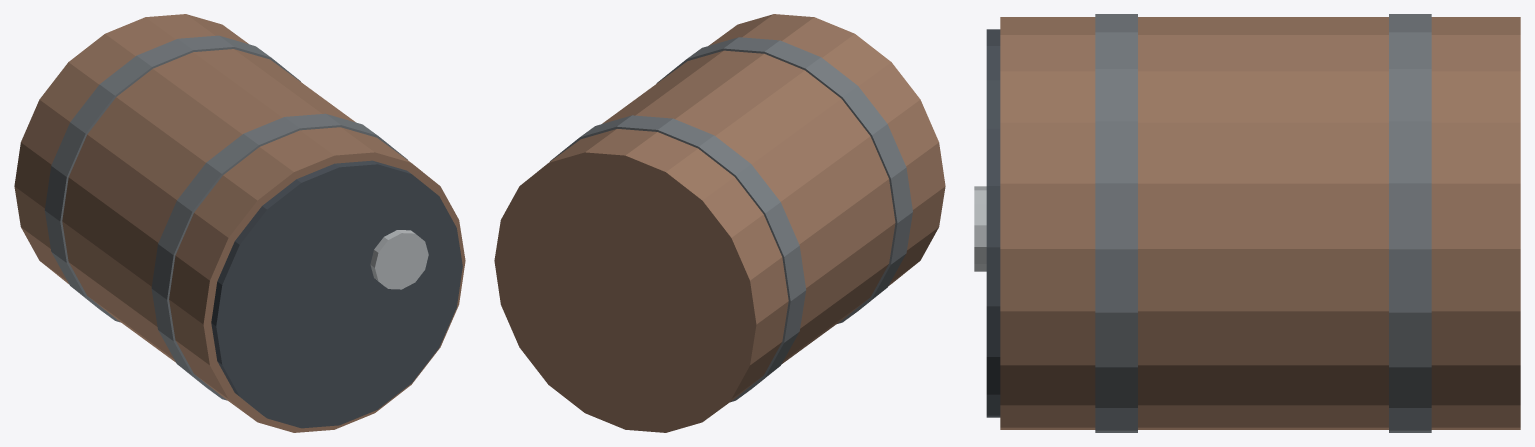
File: prop-metal-barrel.glb
3 views of the same model, side by side, from view 1: azimuth 30°, elevation 25°; view 2: azimuth 150°, elevation 25°; view 3: azimuth 270°, elevation 25° (orthographic). The views are drawn at different scales.
Visible parts, largest first — view 1: world; view 2: world; view 3: world.
Boxes of the visible parts, bbox=[...] form: world: bbox=[14, 14, 465, 432]; world: bbox=[494, 14, 945, 432]; world: bbox=[974, 14, 1520, 432].
Bounding box in the file's own units: 0.69 × 0.69 × 0.8925.
